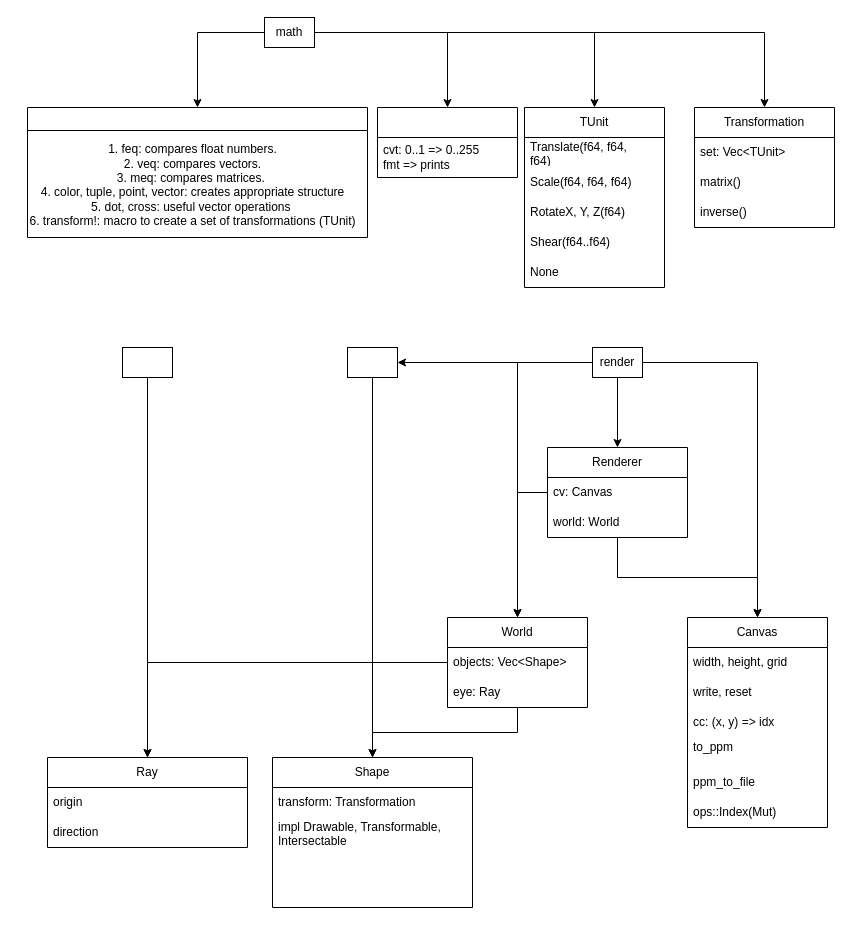
The diagram is 852 pixels wide and 925 high, and some of its shapes have lost their labels. Each missing label, with the box of its shape:
Color: (376, 106, 518, 178)
core: (122, 346, 172, 378)
shapes: (346, 346, 398, 378)
utils: (26, 106, 368, 238)
